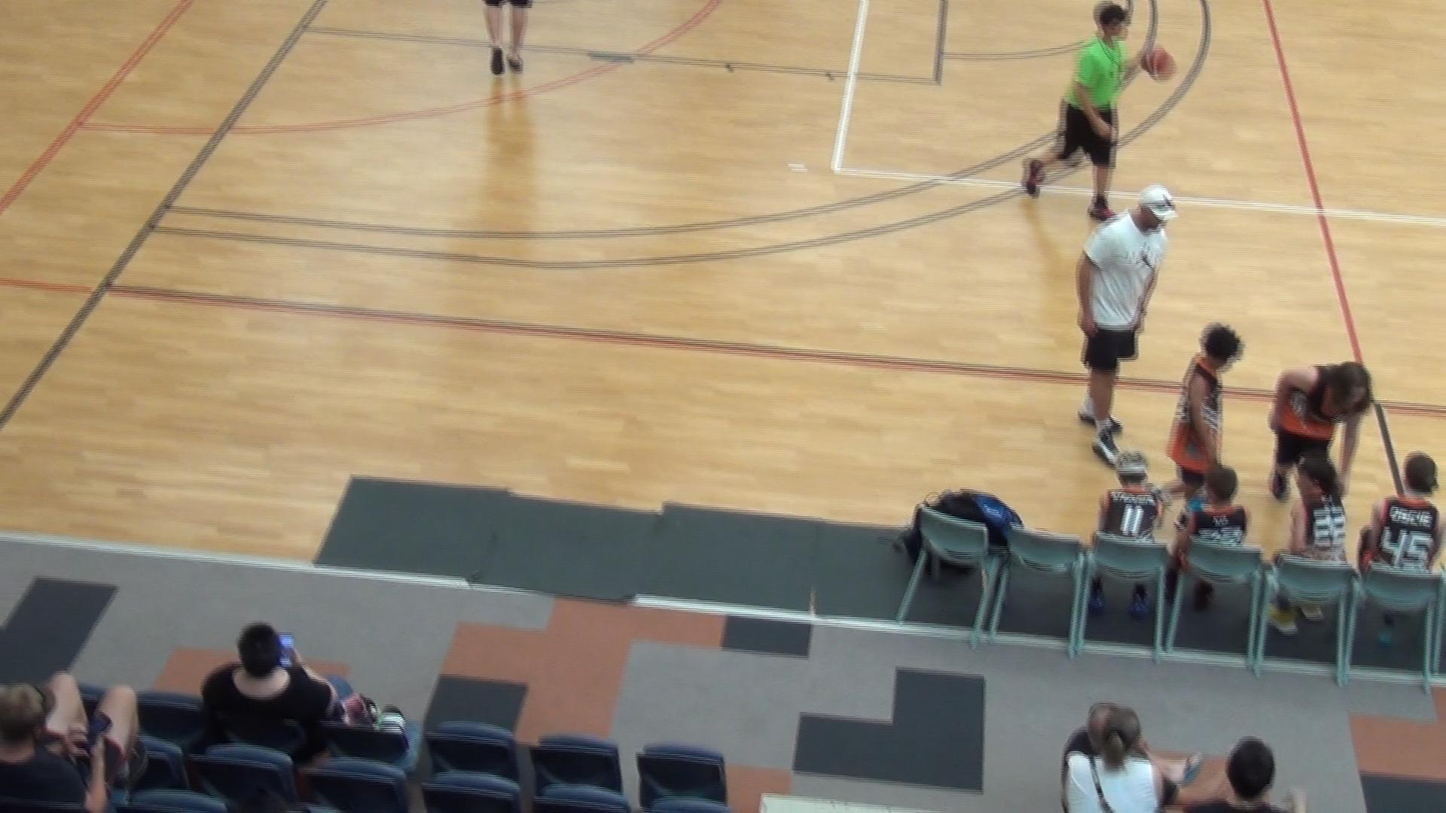ball: (1136, 44, 1175, 83)
human: (1070, 187, 1178, 465), (1021, 0, 1145, 221), (1266, 355, 1376, 505), (1163, 318, 1243, 483)
